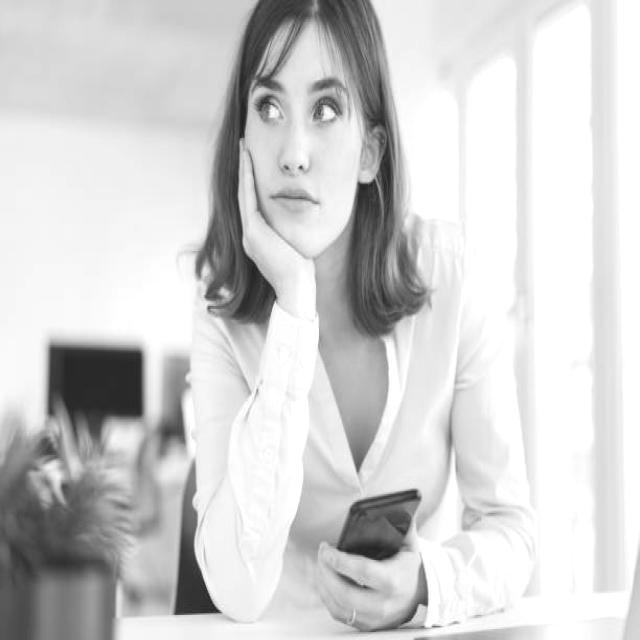Looking away: (248, 39, 356, 257)
